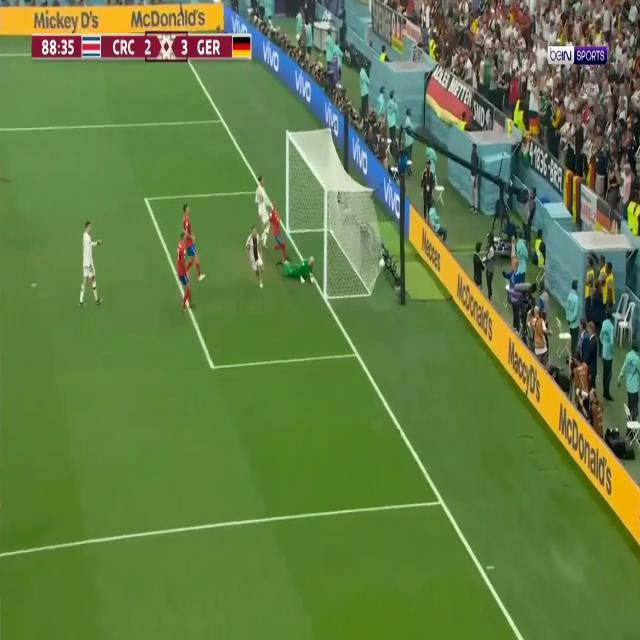Ball: (379, 258, 385, 270)
GoalKeeper: (277, 254, 314, 286)
TEAM 1: (172, 204, 206, 283), (270, 205, 291, 263), (175, 233, 189, 316)
TEAM 2: (80, 216, 103, 311), (245, 227, 270, 295), (256, 168, 270, 246)
